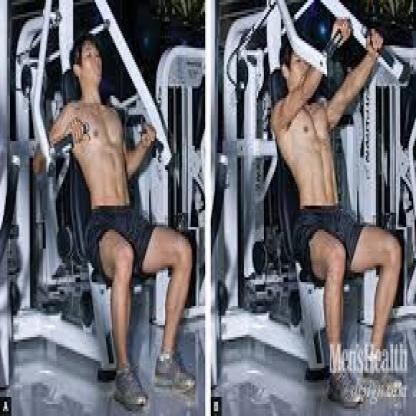Chest Press machine: (210, 0, 416, 416), (1, 0, 197, 416)
